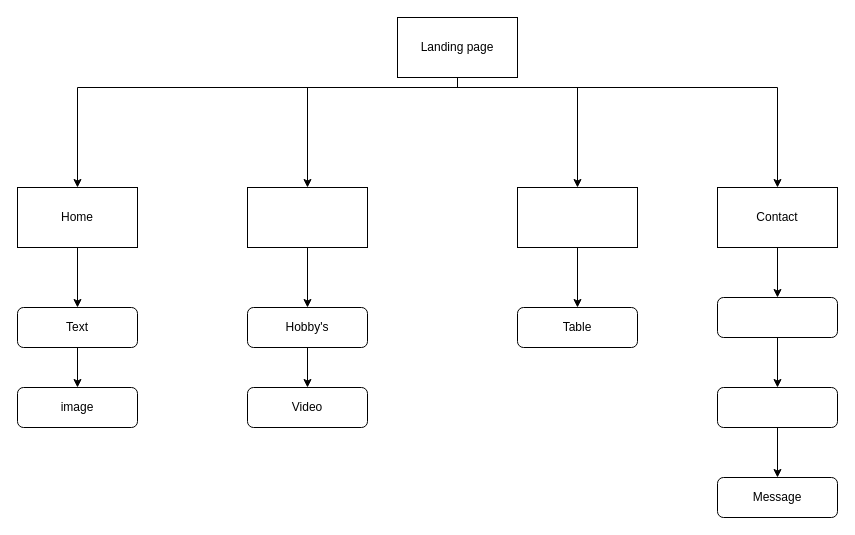
The diagram is 855 pixels wide and 535 high, and some of its shapes have lost their labels. Each missing label, with the centre of its shape:
"About me" goes at (x=307, y=217).
"Email" goes at (x=777, y=407).
"Favorites" goes at (x=577, y=217).
"Name" goes at (x=777, y=317).
